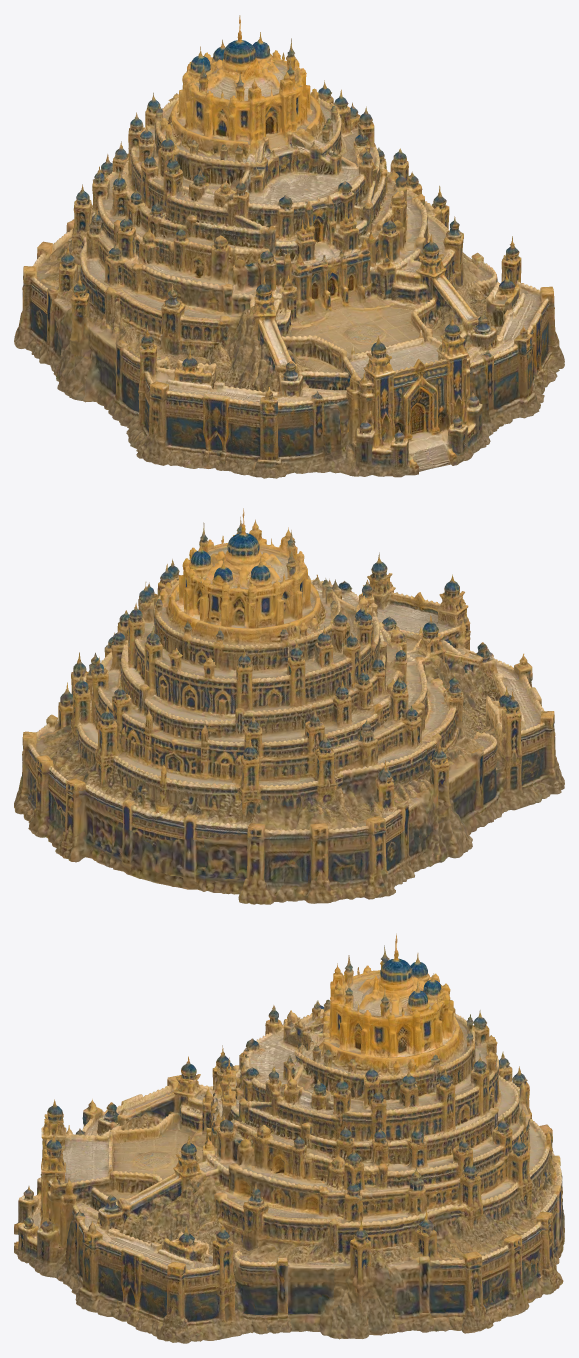
Rendered from GangDez.glb.
The picture shows the model from 3 angles, top to bottom: view 1: azimuth 30°, elevation 25°; view 2: azimuth 150°, elevation 25°; view 3: azimuth 270°, elevation 25°; orthographic projection.
Size of the model in its own units: 1.66 by 1.18 by 1.9.
1 material, 1 textured.
